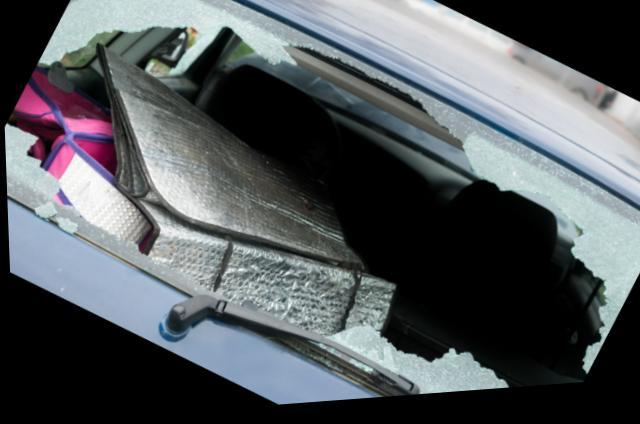glass shatter: (4, 0, 640, 402)
